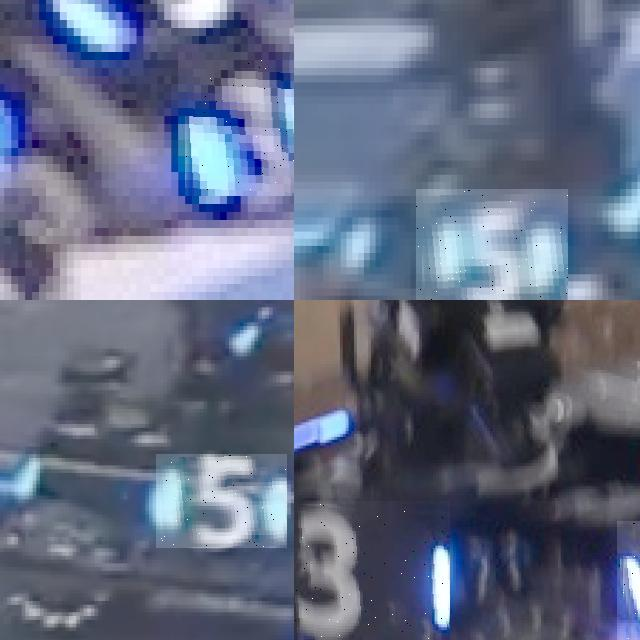B3: (294, 500, 450, 640), (178, 60, 294, 196)
B4: (617, 521, 640, 640)
B5: (416, 189, 567, 300), (156, 454, 287, 548)
